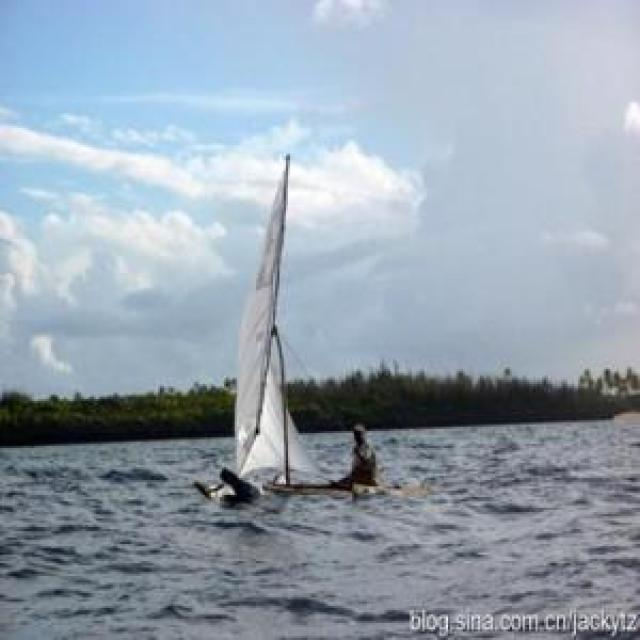sailboat: (221, 152, 378, 498)
